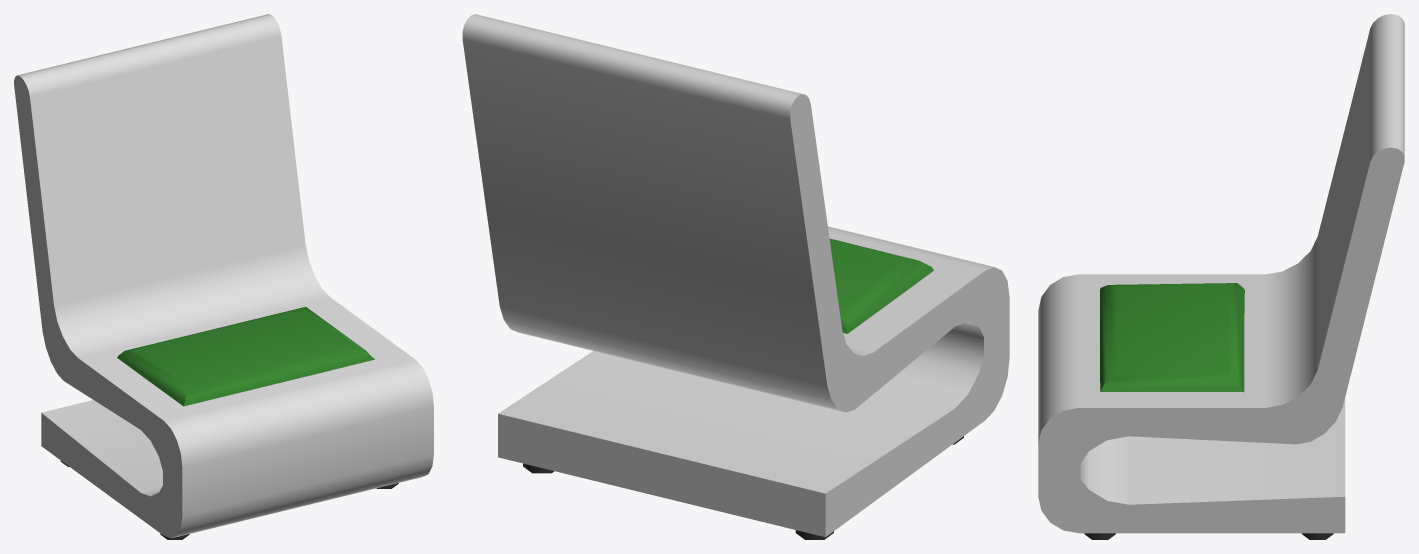
Rendered from Chair Test B.fbx.
3 views of the same model, side by side, from view 1: azimuth 30°, elevation 25°; view 2: azimuth 150°, elevation 25°; view 3: azimuth 270°, elevation 25° (orthographic). The views are drawn at different scales.
Visible parts, largest first — view 1: Chair A; view 2: Chair A; view 3: Chair A.
Boxes of the visible parts, <box> form: Chair A: <box>14,14,433,539</box>; Chair A: <box>462,14,1009,539</box>; Chair A: <box>1038,14,1404,539</box>.
Size of the model in its own units: 0.55 by 0.7635 by 0.6374.
